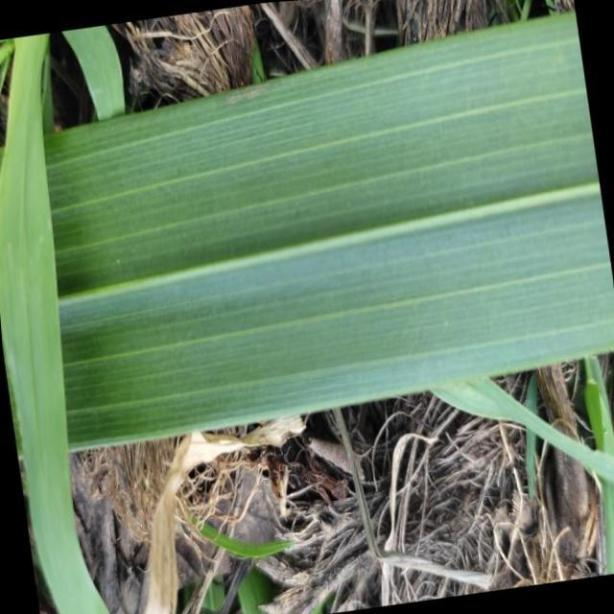Healthy: (0, 13, 614, 452)
